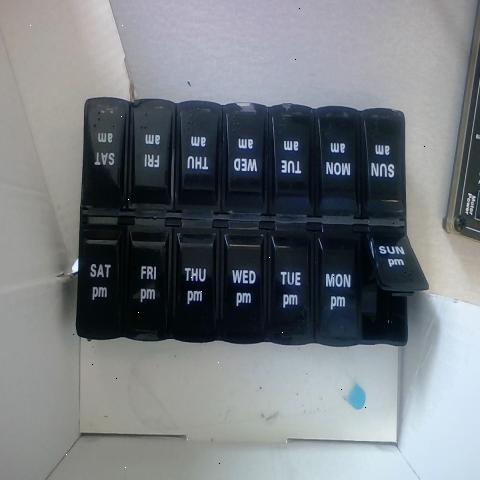FRI-am: (133, 102, 171, 211)
FRI-pm: (128, 218, 167, 339)
MON-am: (318, 110, 358, 214)
MON-pm: (316, 224, 362, 337)
Open: (360, 229, 411, 344)
SAT-am: (88, 92, 126, 214)
SAT-pm: (80, 218, 122, 334)
SUN-am: (368, 228, 424, 288)
SUN-pm: (363, 108, 408, 218)
THU-am: (179, 99, 220, 211)
THU-pm: (176, 218, 218, 341)
TUE-am: (272, 101, 313, 217)
TUE-pm: (268, 228, 311, 342)
WED-am: (224, 100, 266, 210)
WED-pm: (222, 217, 264, 335)
